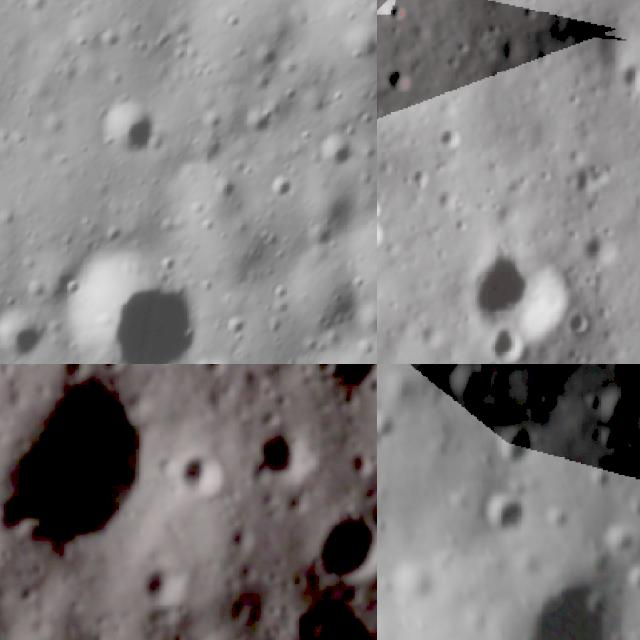crater: (0, 364, 157, 557), (47, 236, 213, 364), (466, 566, 640, 640), (269, 229, 371, 343), (466, 248, 577, 342), (286, 152, 377, 257), (89, 92, 163, 168), (309, 500, 377, 582), (475, 422, 536, 477), (474, 487, 532, 544), (0, 303, 51, 364), (590, 384, 640, 437), (262, 431, 308, 488), (437, 364, 491, 412), (563, 151, 614, 200), (182, 446, 231, 496), (314, 364, 377, 402), (481, 319, 530, 362), (313, 128, 359, 172), (596, 517, 640, 561), (380, 62, 420, 102), (140, 568, 180, 606), (582, 228, 618, 269), (377, 403, 401, 458), (431, 122, 466, 156), (526, 386, 562, 419), (222, 312, 253, 346), (540, 501, 572, 532), (418, 364, 463, 386), (381, 0, 410, 33), (583, 464, 612, 495), (377, 215, 397, 258), (621, 59, 640, 97), (621, 563, 640, 600), (377, 189, 392, 225), (620, 497, 640, 524), (377, 510, 389, 537)
